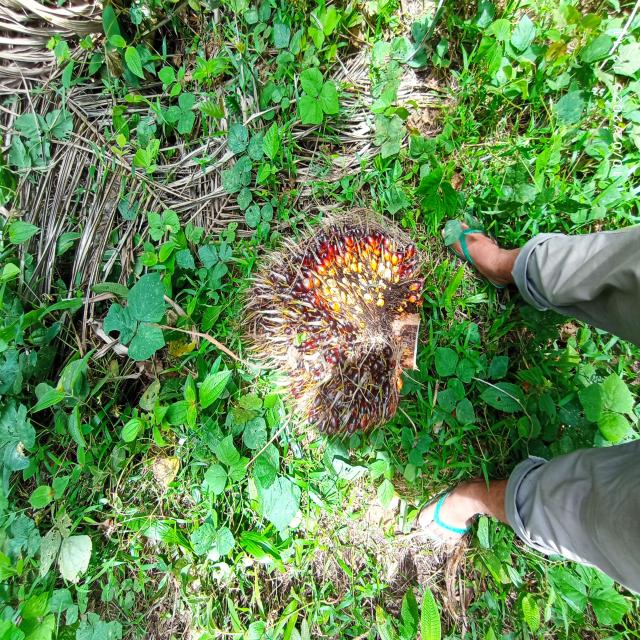fraksi 1: (215, 188, 432, 470)
